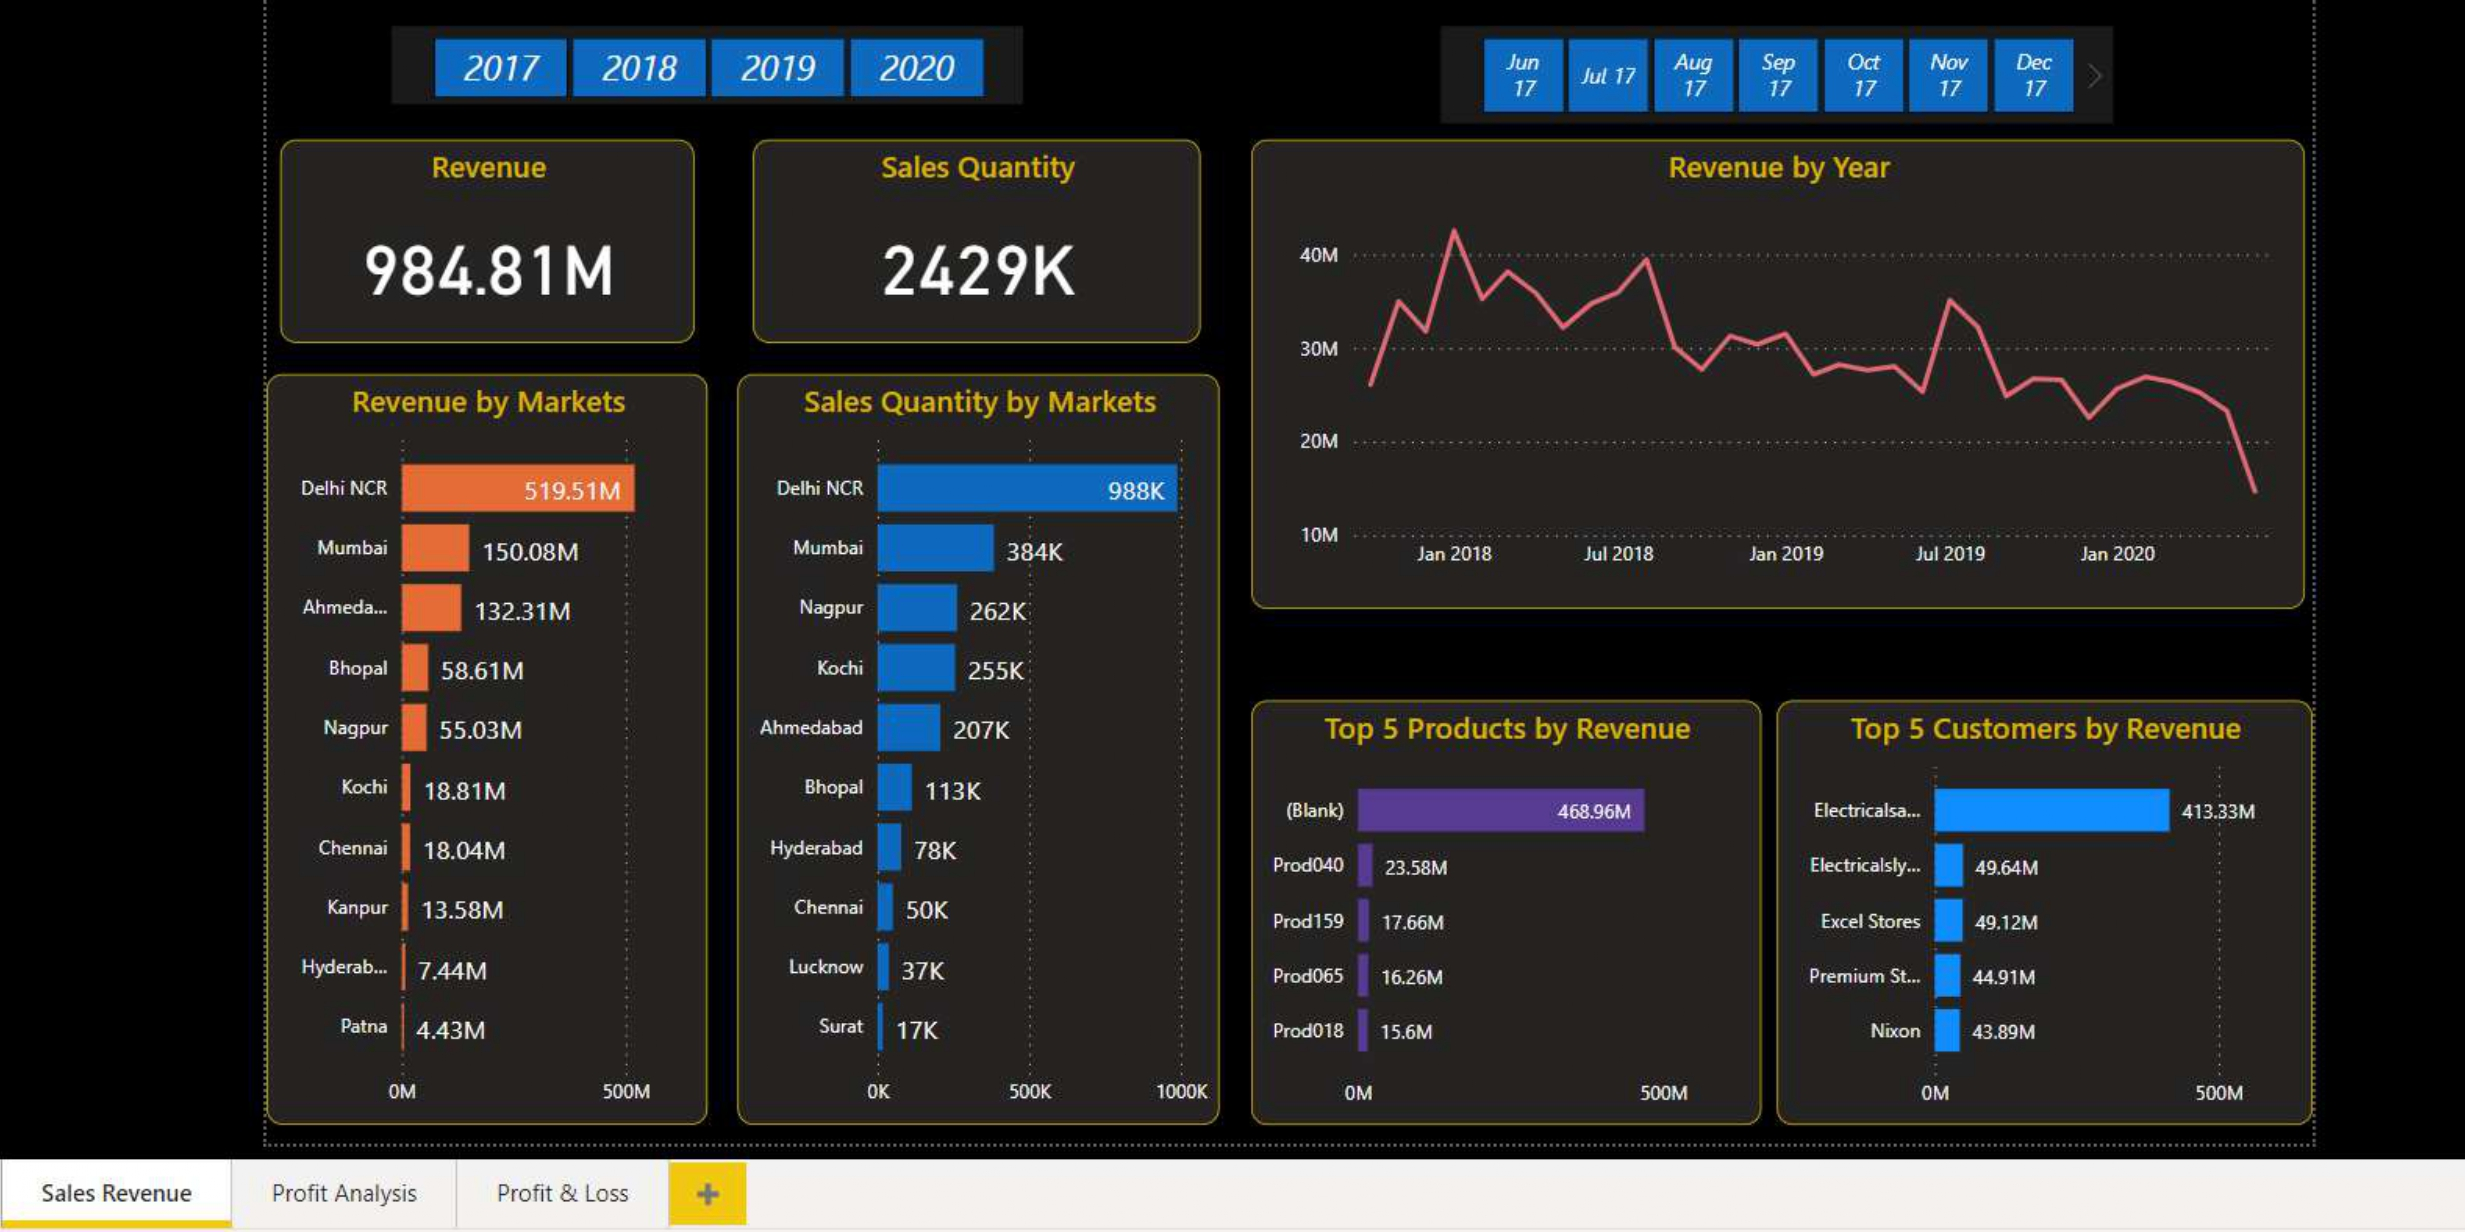

The dashboard page shown, as its layout file describes it:
{"tool":"powerbi","page":{"name":"Sales Revenue","canvas":[1280,720],"ordinal":0},"visuals":[{"type":"card","title":"Revenue","fields":{"Values":["transactions.sales_amount"]},"box":[8.6,91.7,259.2,127.1],"z":0},{"type":"card","title":"Sales Quantity","fields":{"Values":["transactions.sales_qty"]},"box":[304.4,91.7,279.9,127.1],"z":1000},{"type":"barChart","title":"Revenue by  Markets","fields":{"Y":["transactions.sales_amount"],"Category":["markets.markets_name"]},"box":[0,238.4,276.3,469.4],"z":2000},{"type":"barChart","title":"Sales Quantity by  Markets","fields":{"Y":["transactions.sales_qty"],"Category":["markets.markets_name"]},"box":[294.6,238.4,301.9,469.4],"z":3000},{"type":"slicer","title":"Year Wise Sales","fields":{"Values":["date.year"]},"box":[78.2,20.8,394.8,48.9],"z":4000},{"type":"slicer","title":"Year Wise Sales","fields":{"Values":["date.month year"]},"box":[734.7,20.8,420.5,61.1],"z":5000},{"type":"barChart","title":"Top 5 Products by Revenue","fields":{"Y":["transactions.sales_amount"],"Category":["products.product_code"]},"box":[616.1,442.5,319,265.3],"z":6000},{"type":"barChart","title":"Top 5 Customers by Revenue","fields":{"Y":["transactions.sales_amount"],"Category":["customers.custmer_name"]},"box":[944.9,442.5,334.9,265.3],"z":7000},{"type":"lineChart","title":"Revenue by Year","fields":{"Y":["transactions.sales_amount"],"Category":["date.cy_date"]},"box":[616.1,91.7,658.9,293.4],"z":8000}]}

Visuals, with their boxes on the page's 1280x720 design canvas (x1, y1, x2, y2). These are canvas units, not pixel positions in the 2465x1232 screenshot, which may show the page scaled, cropped or inside an application window:
"Revenue" card: bbox(9, 92, 268, 219)
"Sales Quantity" card: bbox(304, 92, 584, 219)
"Revenue by  Markets" barChart: bbox(0, 238, 276, 708)
"Sales Quantity by  Markets" barChart: bbox(295, 238, 596, 708)
"Year Wise Sales" slicer: bbox(78, 21, 473, 70)
"Year Wise Sales" slicer: bbox(735, 21, 1155, 82)
"Top 5 Products by Revenue" barChart: bbox(616, 442, 935, 708)
"Top 5 Customers by Revenue" barChart: bbox(945, 442, 1280, 708)
"Revenue by Year" lineChart: bbox(616, 92, 1275, 385)
